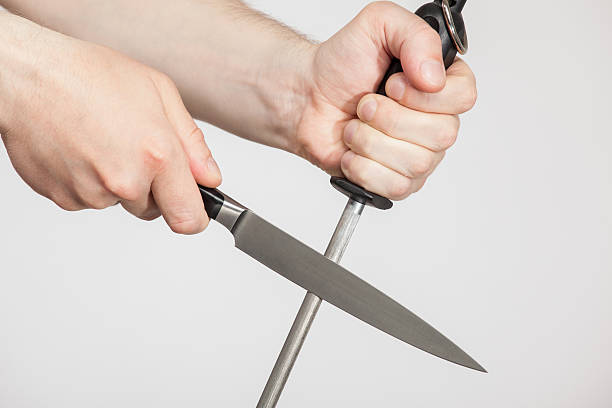knife: (196, 180, 490, 375)
